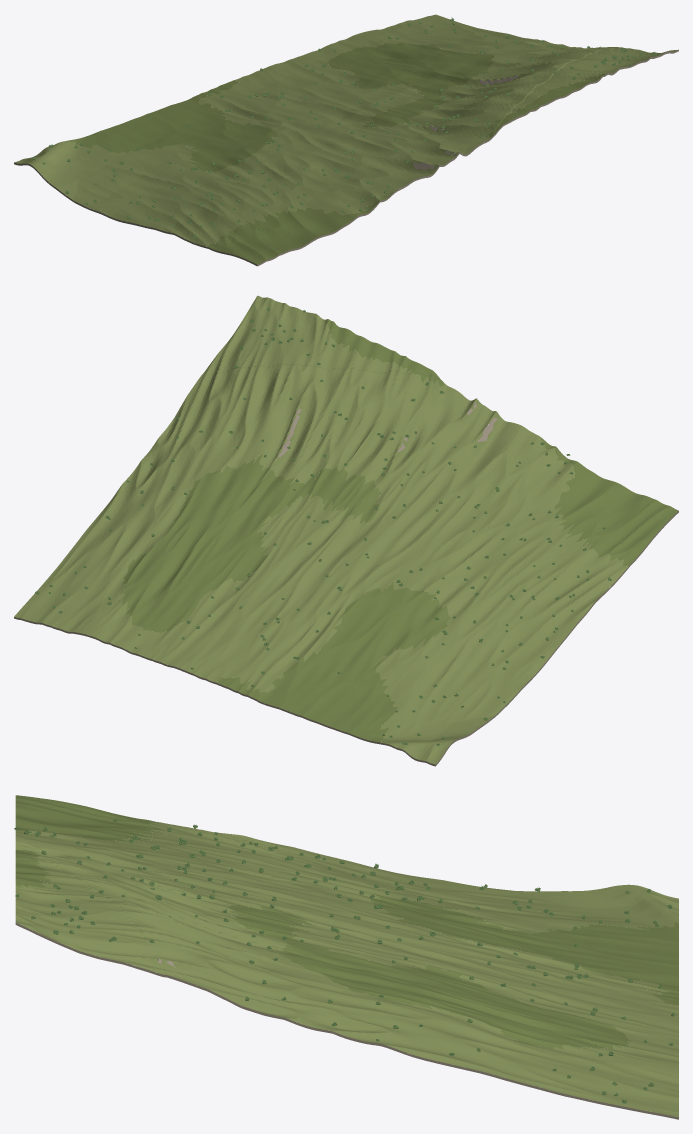
The model's file is parca_+5_-4-yakin.glb.
3 views of the same model, one above another, from view 1: azimuth 30°, elevation 25°; view 2: azimuth 150°, elevation 25°; view 3: azimuth 270°, elevation 25° (orthographic). The views are drawn at different scales.
Visible parts, largest first — view 1: parca_+5_-4_arazi, parca_+5_-4_bitkiler; view 2: parca_+5_-4_arazi, parca_+5_-4_bitkiler; view 3: parca_+5_-4_arazi, parca_+5_-4_bitkiler.
Part boxes in pixels (x1,y1,x2,y2): parca_+5_-4_arazi: (14,14,678,266); parca_+5_-4_bitkiler: (32,17,656,238); parca_+5_-4_arazi: (14,295,678,766); parca_+5_-4_bitkiler: (35,308,611,745); parca_+5_-4_arazi: (15,795,678,1119); parca_+5_-4_bitkiler: (14,819,674,1103).
Bounding box in the file's own units: 1001 × 432 × 1003.
